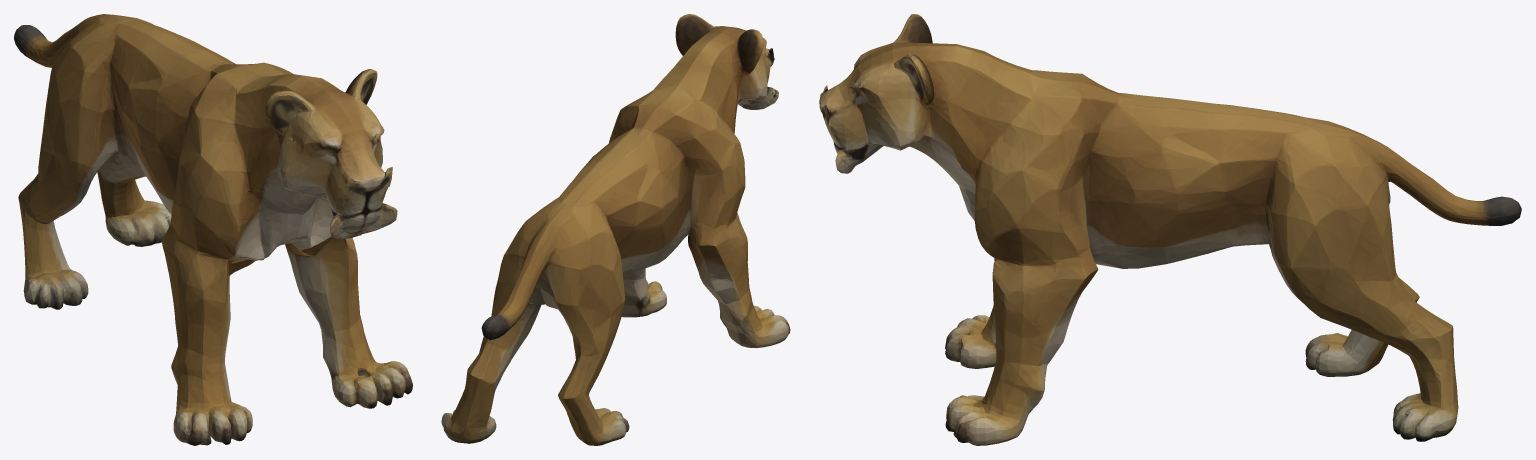
The picture shows the model from 3 angles, left to right: view 1: azimuth 30°, elevation 25°; view 2: azimuth 150°, elevation 25°; view 3: azimuth 270°, elevation 25°; orthographic projection. The views are drawn at different scales.
Parts seen in each view (by area): view 1: world; view 2: world; view 3: world.
Boxes of the visible parts, x1,y1,x2,y2 form: world: (14, 14, 412, 445); world: (441, 14, 790, 445); world: (819, 14, 1521, 445).
Bounding box in the file's own units: 0.3749 × 0.5672 × 1.
1 material, 1 textured.
